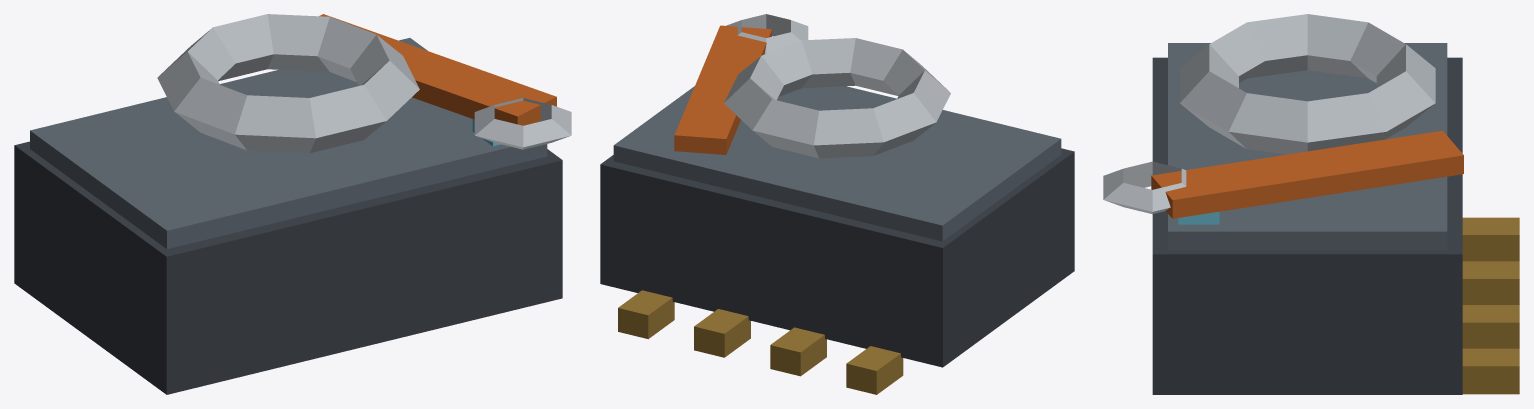
The model's file is droid-mechanic.glb.
3 renders of one model, left to right at view 1: azimuth 30°, elevation 25°; view 2: azimuth 150°, elevation 25°; view 3: azimuth 270°, elevation 25°, orthographic. The views are drawn at different scales.
Visible parts, largest first — view 1: m; view 2: m; view 3: m.
Part boxes in pixels (x1=…): m: x1=14, y1=14, x2=571, y2=394; m: x1=600, y1=14, x2=1074, y2=394; m: x1=1103, y1=14, x2=1519, y2=394.
Bounding box in the file's own units: 0.1 × 0.0609 × 0.0875.
